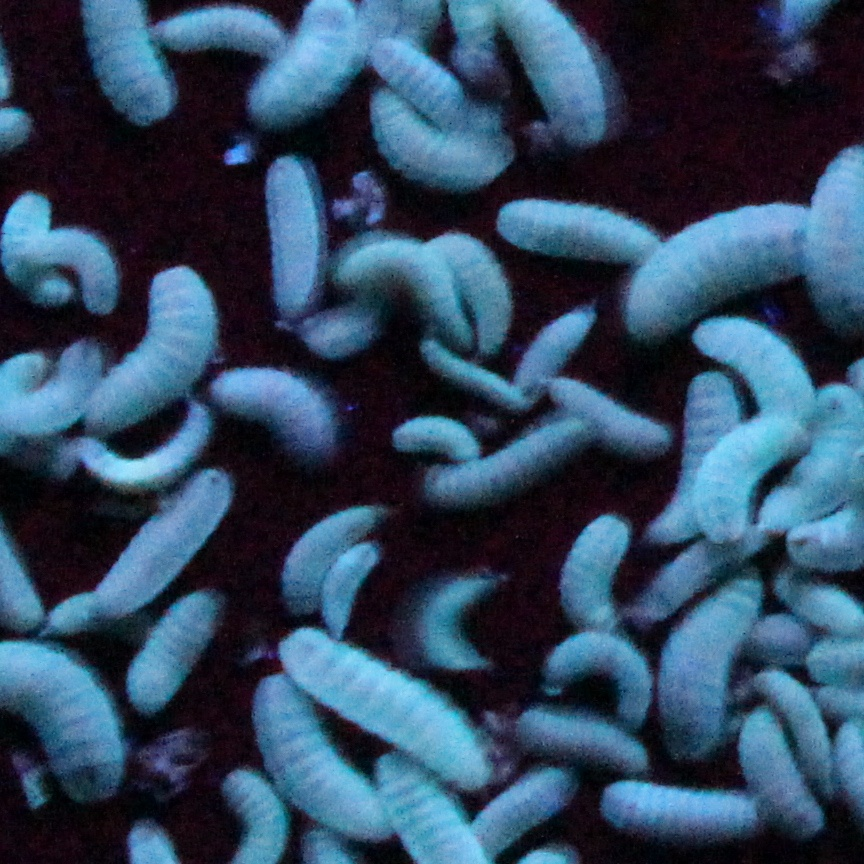larve: (278, 625, 495, 788), (618, 200, 824, 337), (248, 670, 400, 842), (85, 466, 242, 620), (83, 257, 220, 433), (658, 570, 765, 770), (421, 415, 590, 508), (336, 232, 475, 345), (652, 377, 744, 544), (368, 90, 518, 189), (692, 316, 820, 429), (82, 393, 214, 499), (209, 360, 335, 470), (282, 505, 391, 625), (124, 586, 220, 716), (372, 40, 502, 136), (491, 197, 668, 265), (600, 777, 770, 846), (752, 668, 842, 798), (738, 706, 829, 834), (6, 330, 105, 445), (639, 532, 760, 624), (540, 630, 654, 723), (428, 230, 513, 352), (263, 152, 321, 328), (551, 375, 675, 457), (463, 769, 574, 856), (23, 226, 124, 319), (561, 507, 631, 640), (145, 0, 288, 63), (0, 187, 75, 306), (412, 574, 501, 674), (514, 710, 651, 765), (424, 347, 536, 413), (301, 278, 386, 359), (314, 540, 381, 640), (518, 315, 589, 396), (386, 419, 481, 466), (45, 577, 110, 637)
